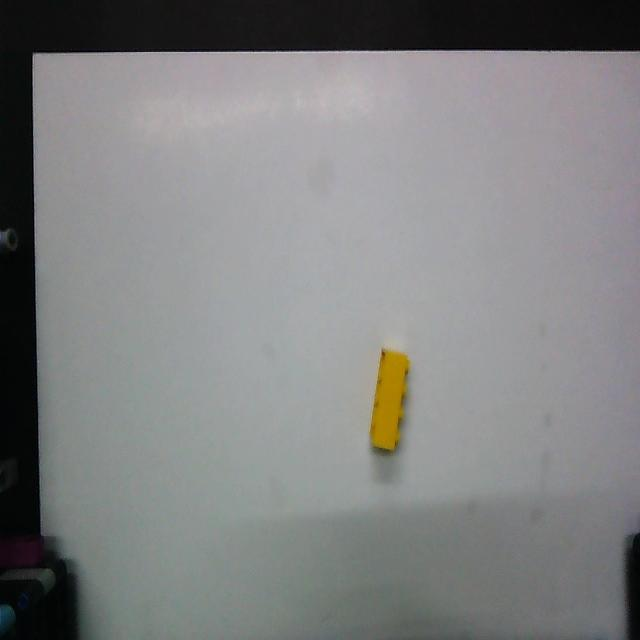lego_brick: (371, 348, 407, 449)
